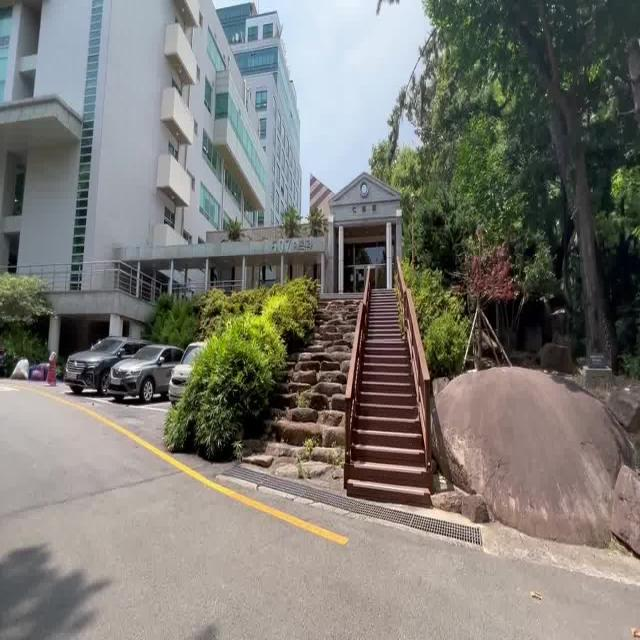building: (215, 181, 425, 481)
